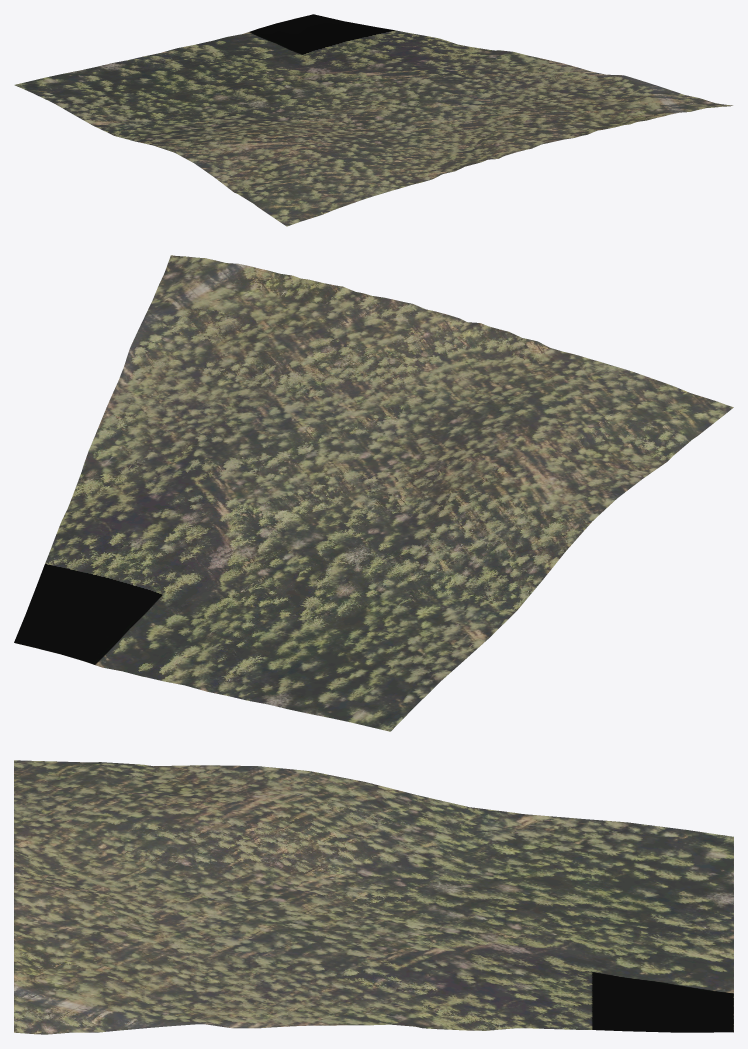
Rendered from CM_Terrain_24490868_6822865.fbx.
The picture shows the model from 3 angles, top to bottom: view 1: azimuth 30°, elevation 25°; view 2: azimuth 150°, elevation 25°; view 3: azimuth 270°, elevation 25°; orthographic projection. The views are drawn at different scales.
Visible parts, largest first — view 1: CM_Terrain_24490868_6822865_LOD0; view 2: CM_Terrain_24490868_6822865_LOD0; view 3: CM_Terrain_24490868_6822865_LOD0.
Boxes of the visible parts, left/top/right/bottom form: CM_Terrain_24490868_6822865_LOD0: left=14, top=14, right=732, bottom=226; CM_Terrain_24490868_6822865_LOD0: left=14, top=255, right=733, bottom=731; CM_Terrain_24490868_6822865_LOD0: left=14, top=760, right=733, bottom=1034.
Size of what is drawn, in the model's own units: 194 by 34.4 by 205.
